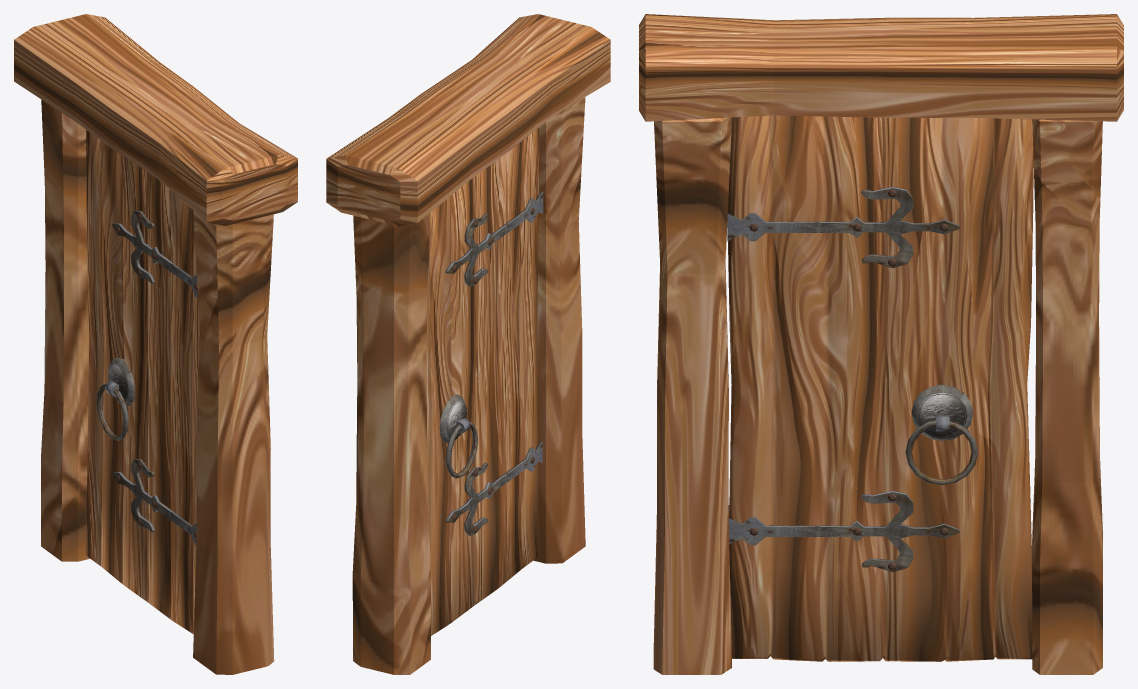
The model's file is Door.dae.
The picture shows the model from 3 angles, left to right: view 1: azimuth 30°, elevation 25°; view 2: azimuth 150°, elevation 25°; view 3: azimuth 270°, elevation 25°; orthographic projection. The views are drawn at different scales.
Visible parts, largest first — view 1: Frame, Door; view 2: Frame, Door; view 3: Door, Frame.
Part boxes in pixels (box(x1,y1,x2,y2)): Frame: box(14, 14, 297, 674); Door: box(86, 130, 199, 633); Frame: box(326, 14, 610, 674); Door: box(426, 128, 543, 635); Door: box(727, 115, 1033, 661); Frame: box(639, 14, 1123, 674).
Size of the model in its own units: 0.5843 by 2.2 by 3.14.
2 materials, 2 textured.
